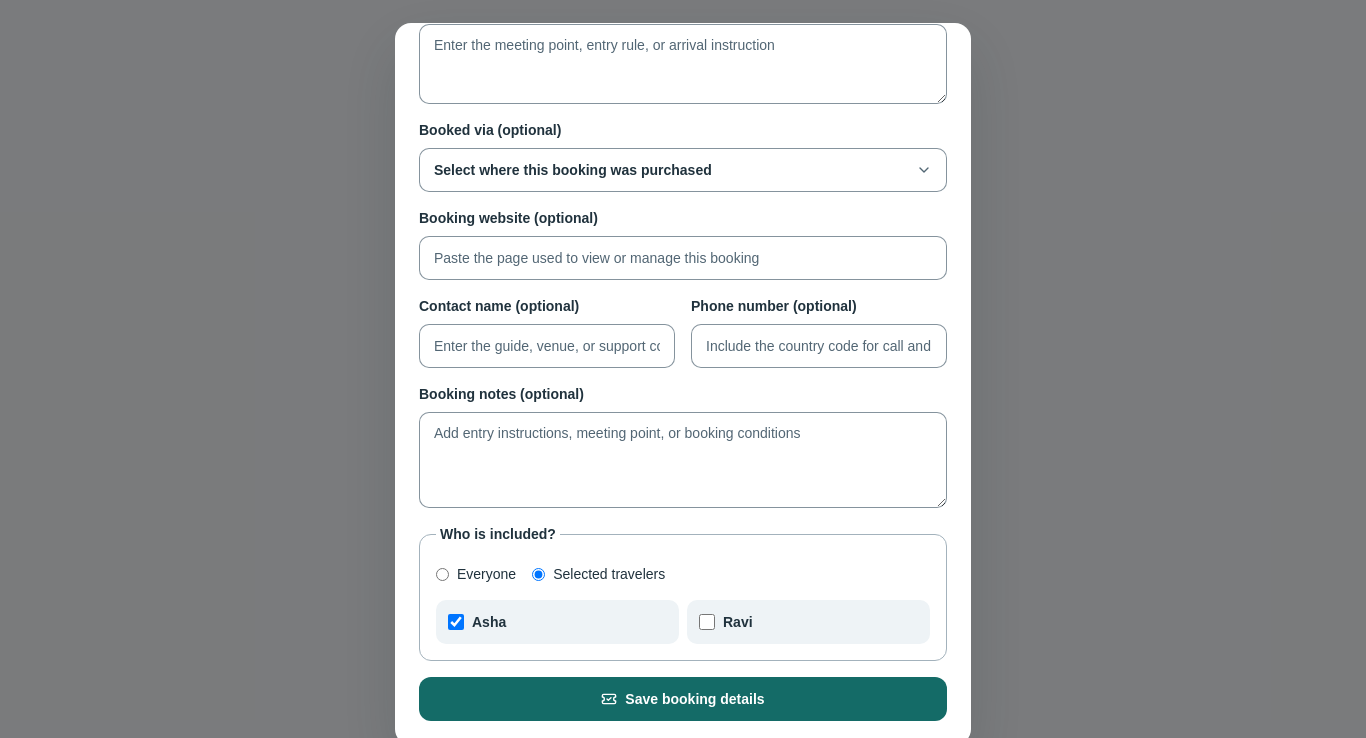
Add booking details to an existing event › archives the new booking if attaching it fails
(page scrolled)
Click the button "Save booking details" at (683, 699), box [419,677,947,721]
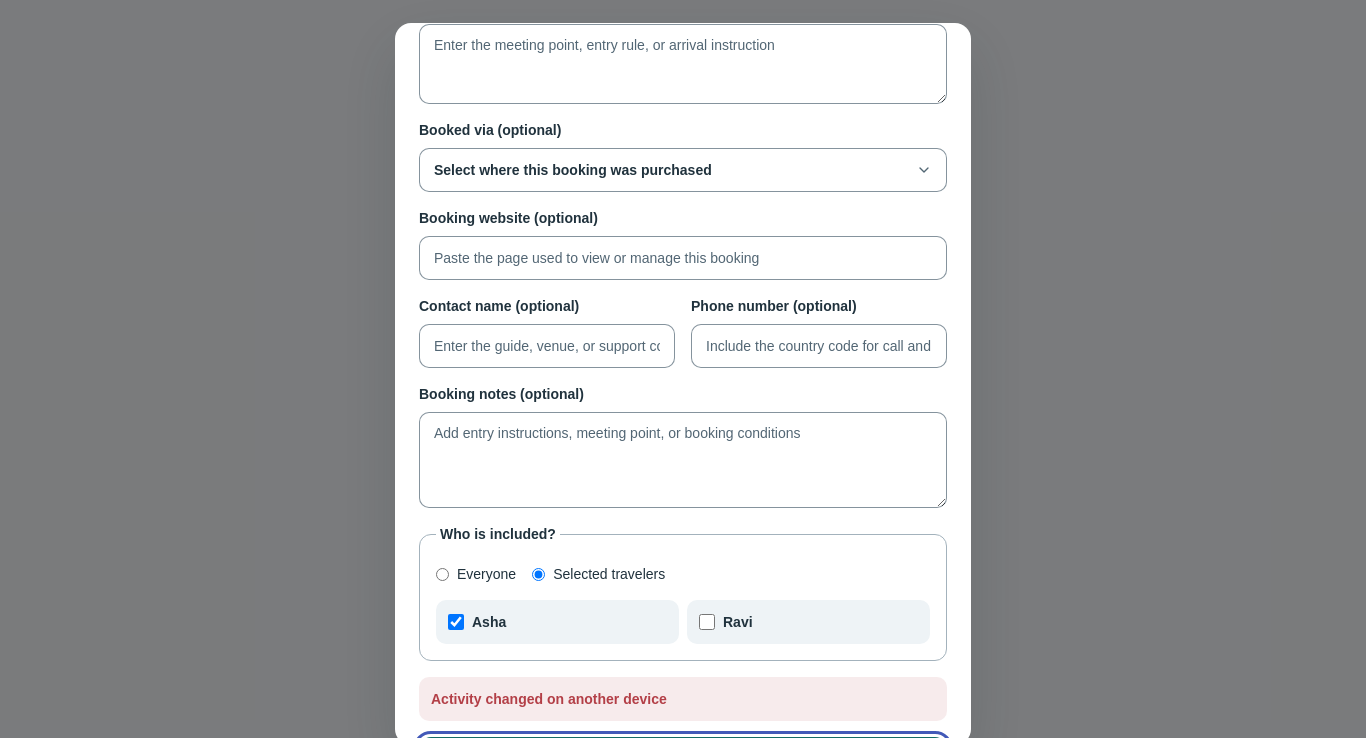
Check: the message reads "Activity changed on another device", box [431,691,667,707]
